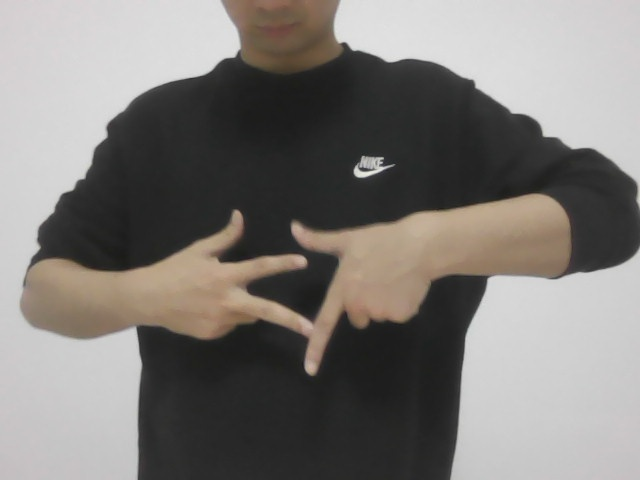introduce: (147, 192, 444, 377)
